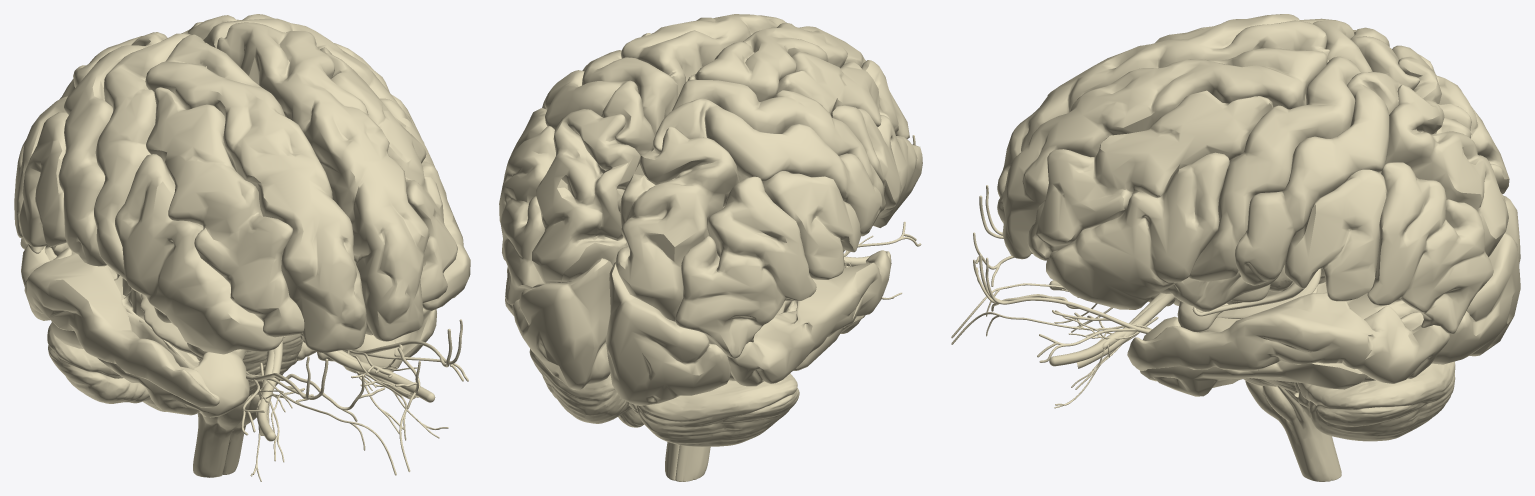
Rendered from bodyparts3d-nervous.glb.
3 views of the same model, side by side, from view 1: azimuth 30°, elevation 25°; view 2: azimuth 150°, elevation 25°; view 3: azimuth 270°, elevation 25° (orthographic). The views are drawn at different scales.
Parts seen in each view (by area): view 1: nervous-superior-frontal-gyrus-right, nervous-superior-frontal-gyrus-left, nervous-middle-frontal-gyrus-right, nervous-inferior-frontal-gyrus-right, nervous-middle-temporal-gyrus-right, nervous-precentral-gyrus-right, nervous-postcentral-gyrus-right, nervous-middle-frontal-gyrus-left, nervous-inferior-temporal-gyrus-right, nervous-supramarginal-gyrus-right, nervous-cerebellum, nervous-medulla-oblongata (+17 smaller); view 2: nervous-angular-gyrus-right, nervous-superior-parietal-lobule-right, nervous-superior-parietal-lobule-left, nervous-cerebellum, nervous-occipital-lobe-right, nervous-postcentral-gyrus-right, nervous-occipital-lobe-left, nervous-middle-temporal-gyrus-right, nervous-superior-frontal-gyrus-right, nervous-supramarginal-gyrus-right, nervous-angular-gyrus-left, nervous-precentral-gyrus-right (+8 smaller); view 3: nervous-superior-frontal-gyrus-left, nervous-middle-temporal-gyrus-left, nervous-middle-frontal-gyrus-left, nervous-inferior-frontal-gyrus-left, nervous-angular-gyrus-left, nervous-postcentral-gyrus-left, nervous-precentral-gyrus-left, nervous-superior-frontal-gyrus-right, nervous-supramarginal-gyrus-left, nervous-superior-parietal-lobule-left, nervous-cerebellum, nervous-occipital-lobe-left (+11 smaller).
Boxes of the visible parts, box(x1,y1,x2,y2) form: nervous-superior-frontal-gyrus-right: box(145, 34, 366, 352); nervous-superior-frontal-gyrus-left: box(217, 22, 429, 341); nervous-middle-frontal-gyrus-right: box(146, 87, 304, 337); nervous-inferior-frontal-gyrus-right: box(115, 154, 283, 354); nervous-middle-temporal-gyrus-right: box(21, 245, 219, 407); nervous-precentral-gyrus-right: box(94, 33, 190, 280); nervous-postcentral-gyrus-right: box(58, 32, 167, 266); nervous-middle-frontal-gyrus-left: box(320, 47, 457, 303); nervous-inferior-temporal-gyrus-right: box(51, 312, 249, 417); nervous-supramarginal-gyrus-right: box(19, 112, 68, 247); nervous-cerebellum: box(47, 323, 316, 411); nervous-medulla-oblongata: box(193, 394, 259, 477); nervous-angular-gyrus-right: box(675, 176, 816, 358); nervous-superior-parietal-lobule-right: box(616, 126, 739, 321); nervous-superior-parietal-lobule-left: box(532, 109, 640, 283); nervous-cerebellum: box(529, 349, 799, 446); nervous-occipital-lobe-right: box(606, 262, 730, 405); nervous-postcentral-gyrus-right: box(653, 98, 882, 236); nervous-occipital-lobe-left: box(512, 258, 612, 390); nervous-middle-temporal-gyrus-right: box(727, 250, 891, 386); nervous-superior-frontal-gyrus-right: box(688, 22, 865, 101); nervous-supramarginal-gyrus-right: box(762, 171, 860, 279); nervous-angular-gyrus-left: box(499, 126, 555, 304); nervous-precentral-gyrus-right: box(672, 79, 885, 212); nervous-superior-frontal-gyrus-left: box(997, 48, 1328, 259); nervous-middle-temporal-gyrus-left: box(1127, 292, 1449, 383); nervous-middle-frontal-gyrus-left: box(1027, 90, 1273, 260); nervous-inferior-frontal-gyrus-left: box(1046, 152, 1229, 309); nervous-angular-gyrus-left: box(1367, 162, 1493, 334); nervous-postcentral-gyrus-left: box(1235, 72, 1400, 285); nervous-precentral-gyrus-left: box(1189, 56, 1361, 281); nervous-superior-frontal-gyrus-right: box(997, 14, 1329, 197); nervous-supramarginal-gyrus-left: box(1284, 169, 1387, 301); nervous-superior-parietal-lobule-left: box(1379, 85, 1508, 256); nervous-cerebellum: box(1295, 277, 1455, 441); nervous-occipital-lobe-left: box(1347, 232, 1520, 364).
Bounding box in the file's own units: 0.1388 × 0.166 × 0.1958.
